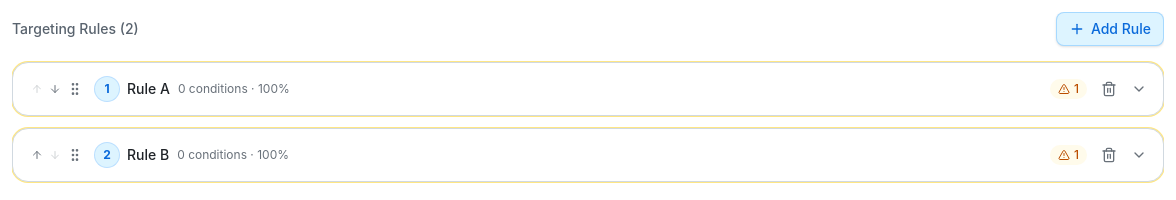
Test case: VisualRuleBuilder › moves rule up/down via arrow buttons
Expected: the text "Rule A" is shown, [127,79,170,99]
Expected: the text "Rule B" is shown, [127,145,169,165]
Note: Rule B is at index 1, its move-up button should be enabled
Click the 2nd button named "Move rule up".
click(37, 155)  # box [29,147,45,163]
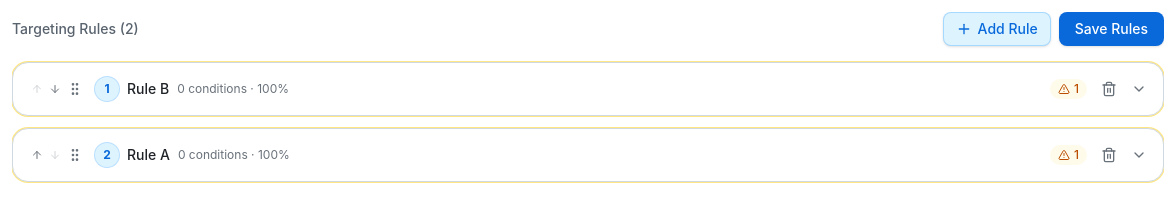
Result: the button "Save Rules" is shown at [1059,12,1164,46]
